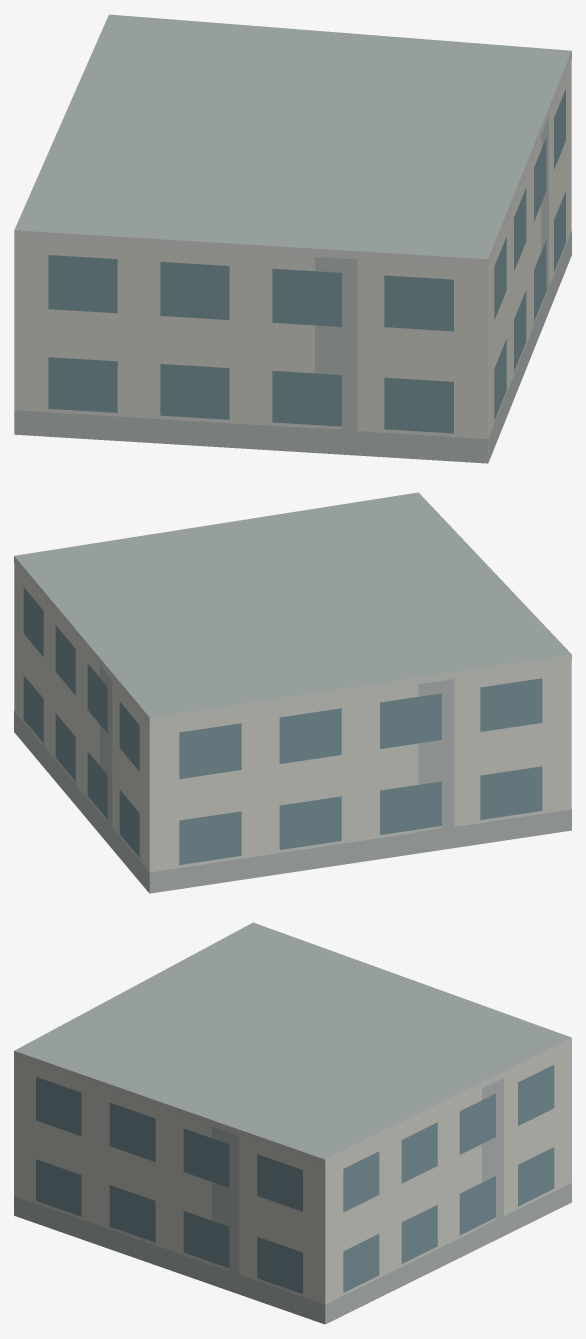
File: residential-16edd770-cb42-4f1c-97fa-756222c8d212.glb
3 views of the same model, one above another, from view 1: azimuth 30°, elevation 25°; view 2: azimuth 150°, elevation 25°; view 3: azimuth 270°, elevation 25° (orthographic). The views are drawn at different scales.
Parts seen in each view (by area): view 1: residential-16edd770-cb42-4f1c-97fa-756222c8d212.tmp; view 2: residential-16edd770-cb42-4f1c-97fa-756222c8d212.tmp; view 3: residential-16edd770-cb42-4f1c-97fa-756222c8d212.tmp.
Boxes of the visible parts, x1=… form: residential-16edd770-cb42-4f1c-97fa-756222c8d212.tmp: x1=14, y1=14, x2=571, y2=463; residential-16edd770-cb42-4f1c-97fa-756222c8d212.tmp: x1=14, y1=492, x2=571, y2=893; residential-16edd770-cb42-4f1c-97fa-756222c8d212.tmp: x1=14, y1=922, x2=571, y2=1324.
Bounding box in the file's own units: 18.83 × 6.1 × 18.71.
